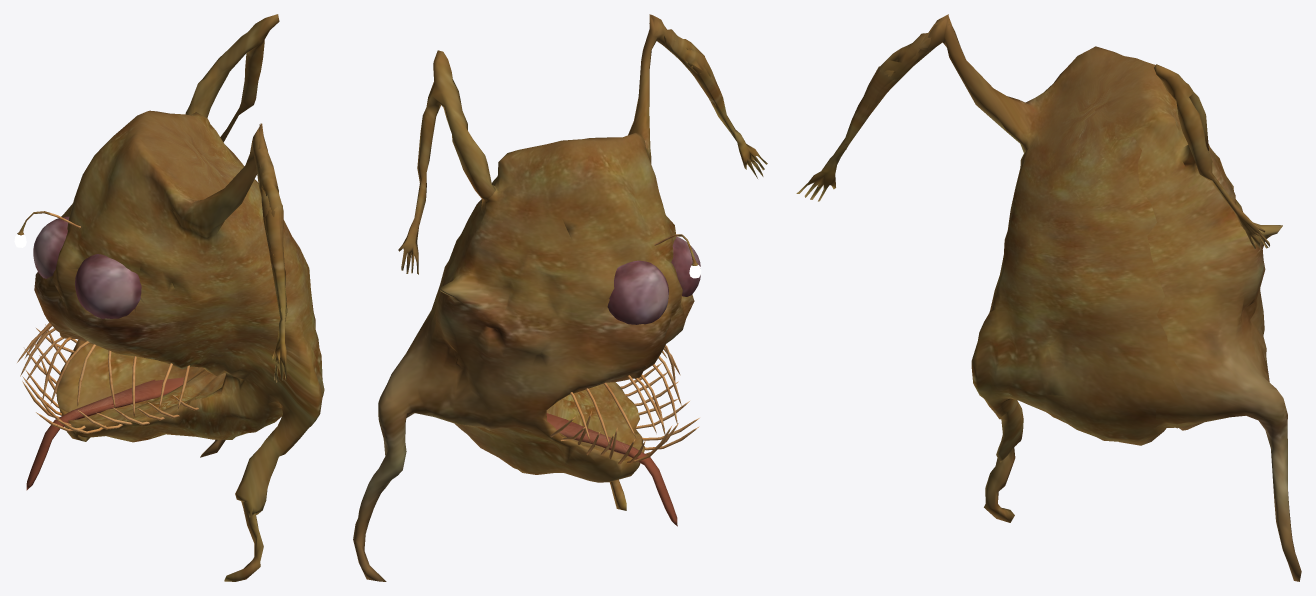
Rendered from wranglerman.glb.
3 renders of one model, left to right at view 1: azimuth 30°, elevation 25°; view 2: azimuth 150°, elevation 25°; view 3: azimuth 270°, elevation 25°, orthographic. The views are drawn at different scales.
Visible parts, largest first — view 1: tmpnb_qtv19.001; view 2: tmpnb_qtv19.001; view 3: tmpnb_qtv19.001.
Boxes of the visible parts, x1,y1,x2,y2 form: tmpnb_qtv19.001: [14, 14, 324, 581]; tmpnb_qtv19.001: [353, 14, 767, 581]; tmpnb_qtv19.001: [796, 14, 1301, 581].
Bounding box in the file's own units: 1.1 × 1.78 × 1.59.
Materials: 3 (2 with a texture image).
